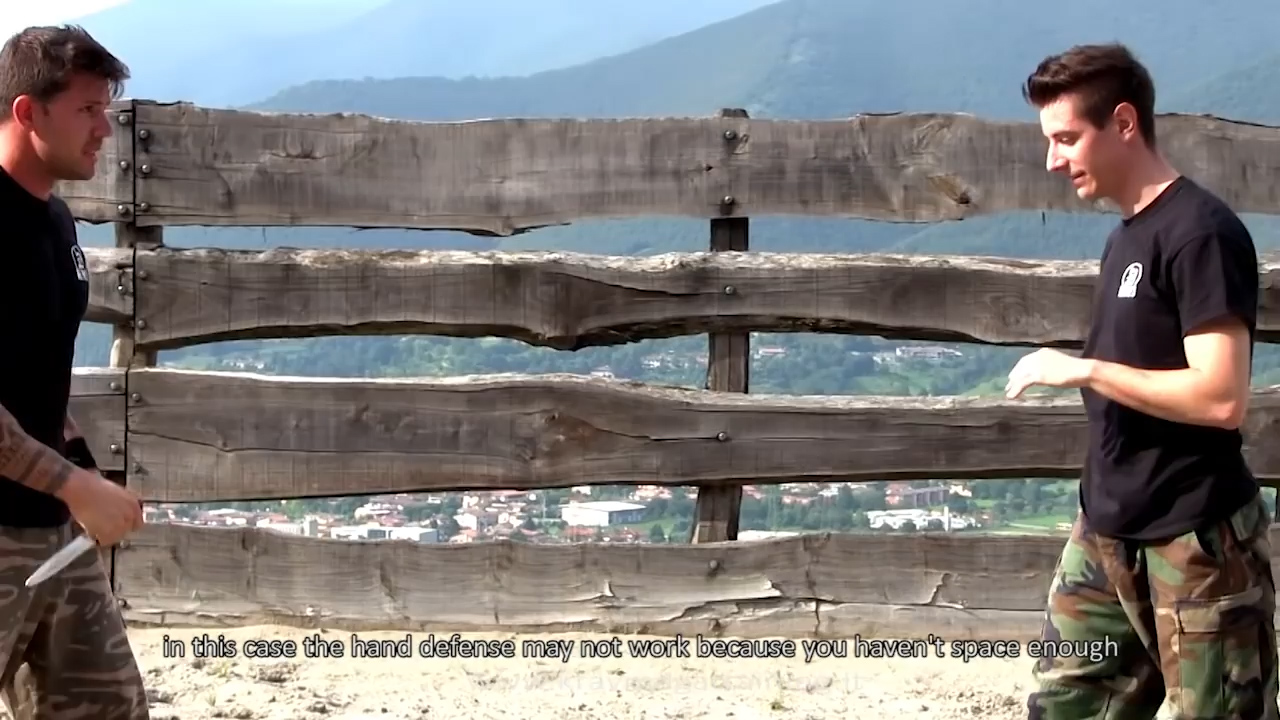knife: (19, 490, 147, 590)
